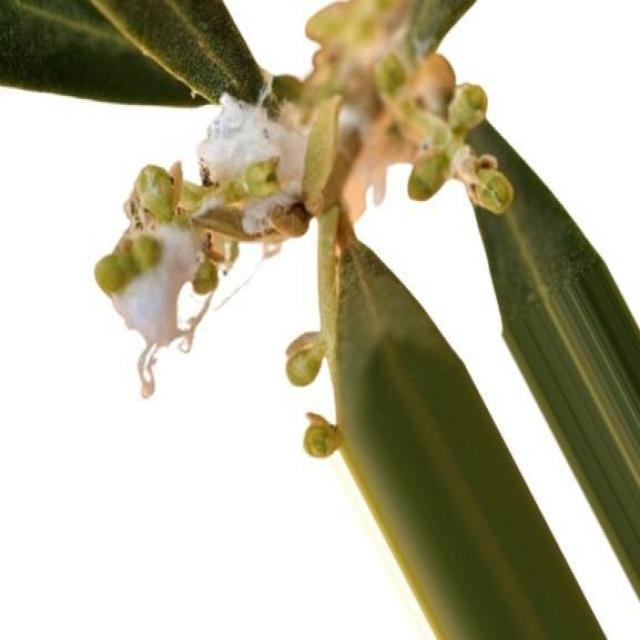Psyllid: (95, 0, 451, 396)
